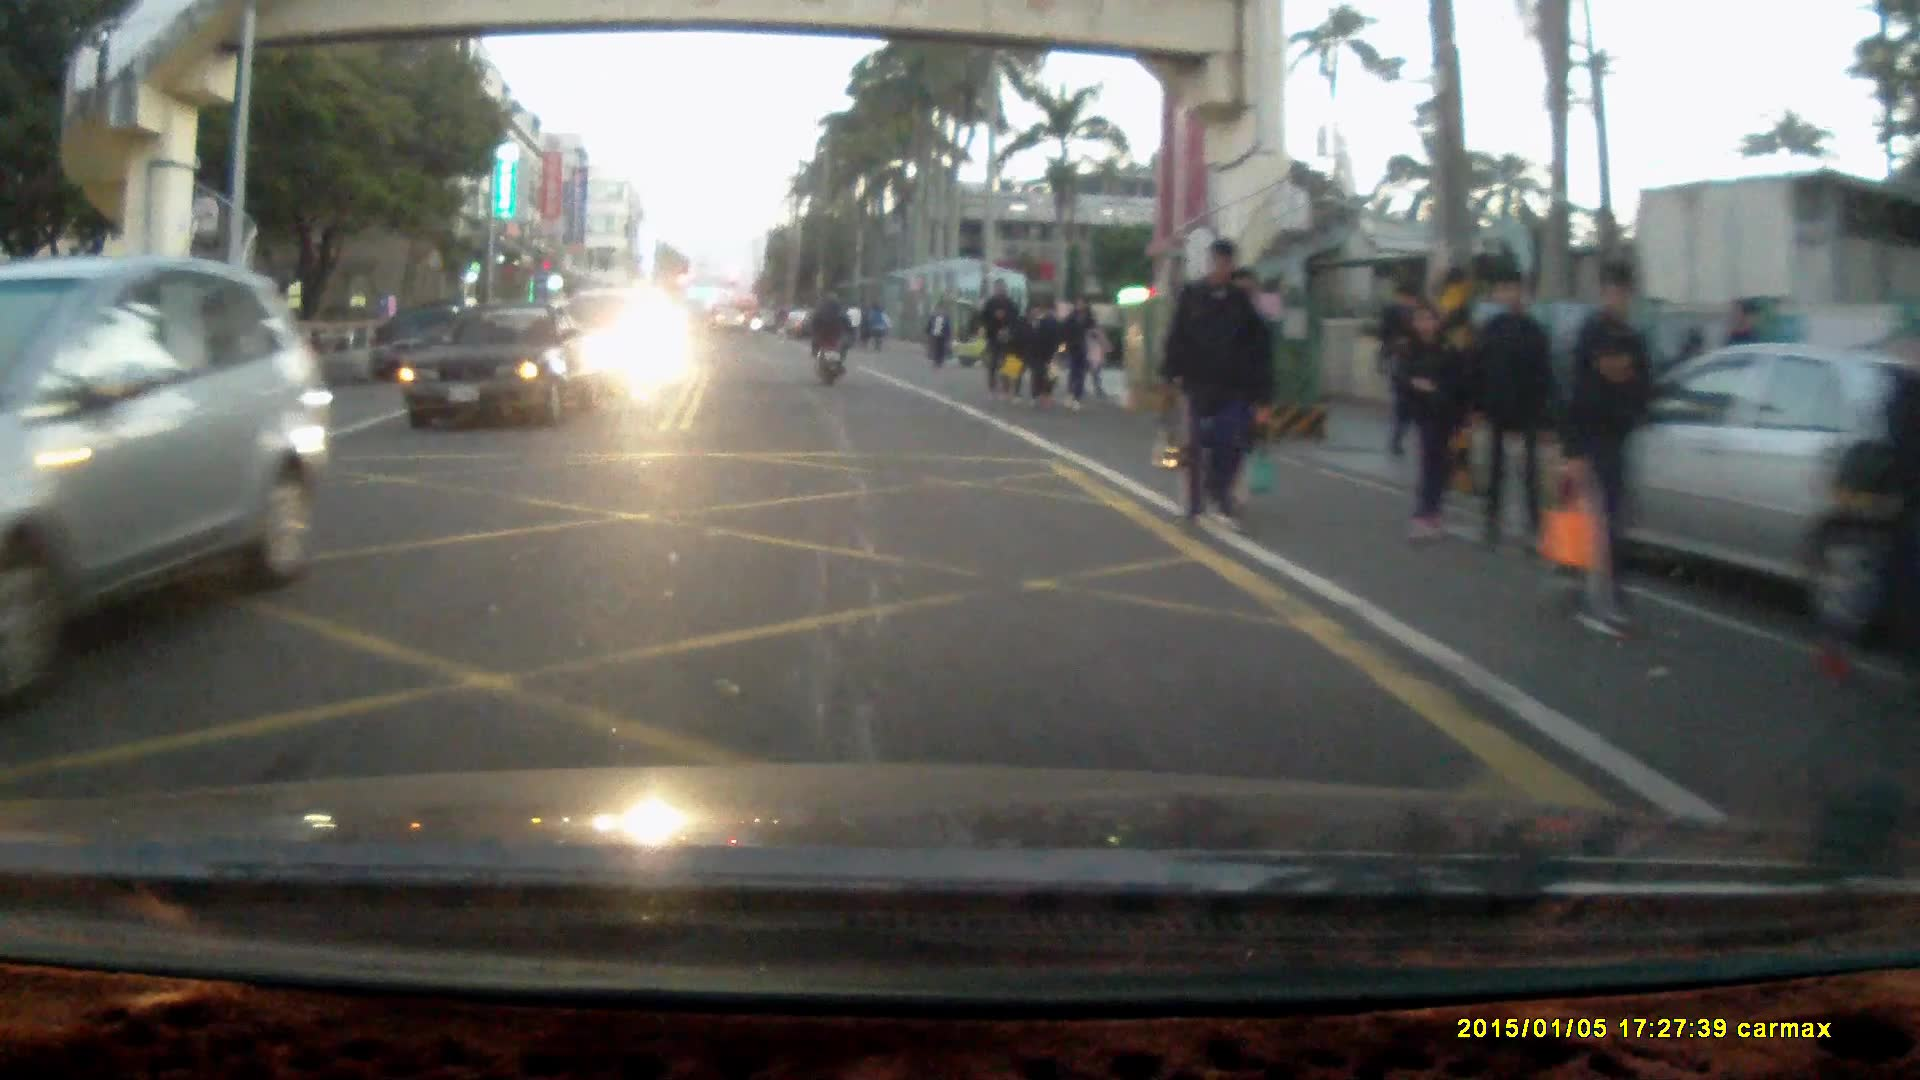pedestrian: (1816, 305, 1920, 724), (1554, 254, 1664, 642), (1155, 239, 1259, 531), (1466, 268, 1558, 560), (1398, 300, 1472, 549), (1376, 281, 1424, 464), (1053, 292, 1101, 412), (977, 276, 1018, 402), (1014, 298, 1057, 408), (925, 303, 950, 372)
rider: (809, 291, 851, 387)
vehicle: (1, 257, 330, 686), (1531, 338, 1920, 637), (395, 308, 611, 434)
